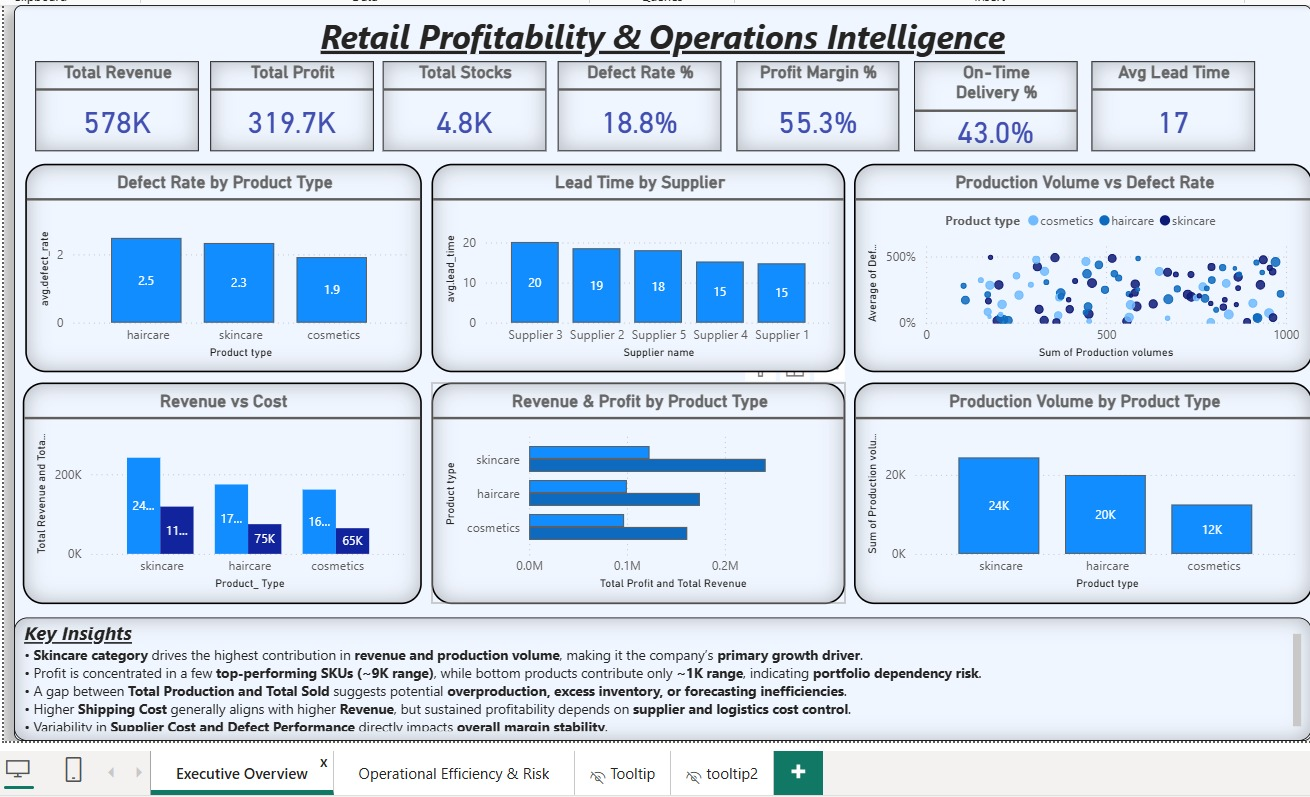

What the dashboard file says about the page in this screenshot:
{"tool":"powerbi","page":{"name":"Executive Overview","canvas":[1280,720],"ordinal":0},"visuals":[{"type":"textbox","box":[10.1,0,1269.6,719.9],"z":0},{"type":"card","title":"Total Profit","fields":{"Values":["supply_chain.Total Profit"]},"box":[201.8,55,160.2,88],"z":1000},{"type":"card","title":"Profit Margin %","fields":{"Values":["supply_chain.Profit Margin %"]},"box":[716.6,55,159,88],"z":2000},{"type":"card","title":"Defect Rate %","fields":{"Values":["supply_chain.Defect Rate %"]},"box":[541.7,55,160.2,88],"z":3000},{"type":"card","title":"Avg Lead Time","fields":{"Values":["supply_chain.avg.lead_time"]},"box":[1063.9,55,160.2,88],"z":4000},{"type":"lineClusteredColumnComboChart","title":"Revenue vs Cost","fields":{"Category":["supply_chain.Product type"],"Y":["supply_chain.Total Revenue","supply_chain.Total Cost"]},"box":[18.3,369.3,390.1,216.4],"z":5000},{"type":"clusteredBarChart","title":"Revenue & Profit by Product Type","fields":{"Category":["supply_chain.Product type"],"Y":["supply_chain.Total Profit","supply_chain.Total Revenue"]},"box":[418.2,369.3,404.8,216.4],"z":6000},{"type":"columnChart","title":"Defect Rate by Product Type","fields":{"Category":["supply_chain.Product type"],"Y":["supply_chain.avg.defect_rate"]},"box":[20.8,155.3,387.6,204.2],"z":7000},{"type":"card","title":"Total Revenue","fields":{"Values":["supply_chain.Total Revenue"]},"box":[30.6,55,160.2,88],"z":8000},{"type":"card","title":"Total Stocks","fields":{"Values":["supply_chain.Total_stock"]},"box":[370.5,55,160.2,88],"z":9000},{"type":"card","title":"On-Time Delivery %","fields":{"Values":["supply_chain.On-Time Delivery %"]},"box":[890.2,55,160.2,88],"z":10000},{"type":"columnChart","title":"Lead Time by Supplier","fields":{"Y":["supply_chain.avg.lead_time"],"Category":["supply_chain.Supplier name"]},"box":[418.2,155.3,404.8,204.2],"z":11000},{"type":"scatterChart","title":"Production Volume vs Defect Rate","fields":{"X":["Sum(supply_chain.Production volumes)"],"Size":["Sum(supply_chain.Revenue generated)"],"Series":["supply_chain.Product type"],"Category":["supply_chain.SKU"],"Y":["Avg(supply_chain.Defect rates)"]},"box":[831.5,155.3,448.8,204.2],"z":12000},{"type":"clusteredColumnChart","title":"Production Volume by Product Type","fields":{"Category":["supply_chain.Product type"],"Y":["Sum(supply_chain.Production volumes)"]},"box":[831.5,369.3,448.8,216.4],"z":13000},{"type":"textbox","box":[9.8,599.2,1269.3,121.1],"z":14000}]}

Visuals, with their boxes on the page's 1280x720 design canvas (x1, y1, x2, y2). These are canvas units, not pixel positions in the 1310x797 screenshot, which may show the page scaled, cropped or inside an application window:
textbox: crop(10, 0, 1280, 720)
"Total Profit" card: crop(202, 55, 362, 143)
"Profit Margin %" card: crop(717, 55, 876, 143)
"Defect Rate %" card: crop(542, 55, 702, 143)
"Avg Lead Time" card: crop(1064, 55, 1224, 143)
"Revenue vs Cost" lineClusteredColumnComboChart: crop(18, 369, 408, 586)
"Revenue & Profit by Product Type" clusteredBarChart: crop(418, 369, 823, 586)
"Defect Rate by Product Type" columnChart: crop(21, 155, 408, 360)
"Total Revenue" card: crop(31, 55, 191, 143)
"Total Stocks" card: crop(370, 55, 531, 143)
"On-Time Delivery %" card: crop(890, 55, 1050, 143)
"Lead Time by Supplier" columnChart: crop(418, 155, 823, 360)
"Production Volume vs Defect Rate" scatterChart: crop(832, 155, 1280, 360)
"Production Volume by Product Type" clusteredColumnChart: crop(832, 369, 1280, 586)
textbox: crop(10, 599, 1279, 720)
